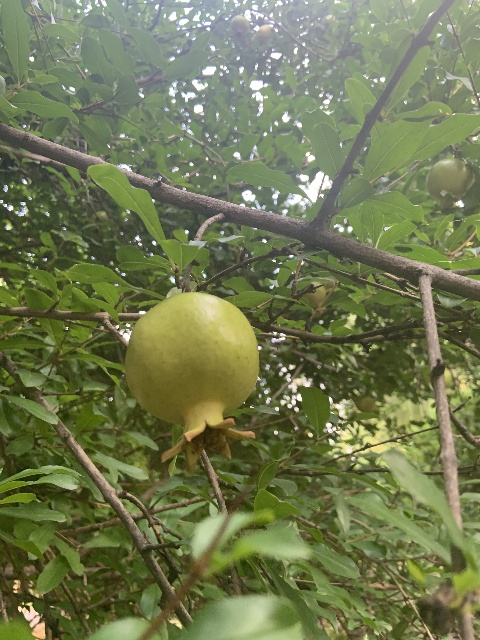mid-growth: (124, 291, 260, 470), (426, 158, 474, 202), (231, 15, 249, 36)
